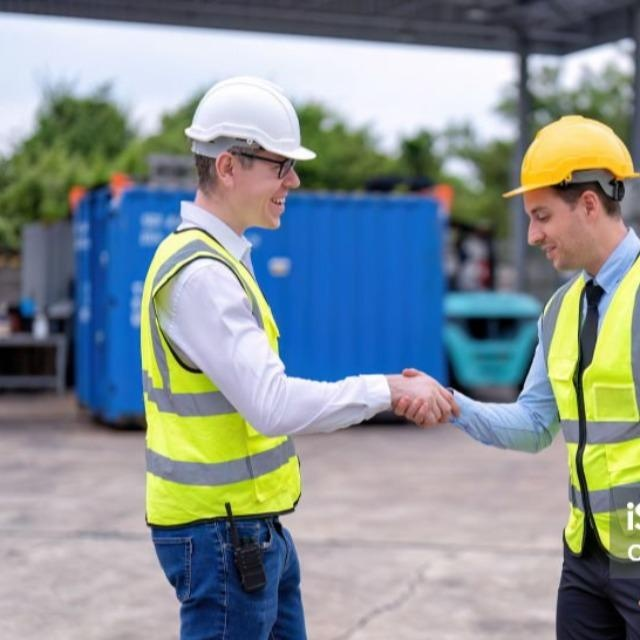Con_Casco: (185, 76, 315, 231)
Con_Chaleco: (124, 236, 304, 511)
